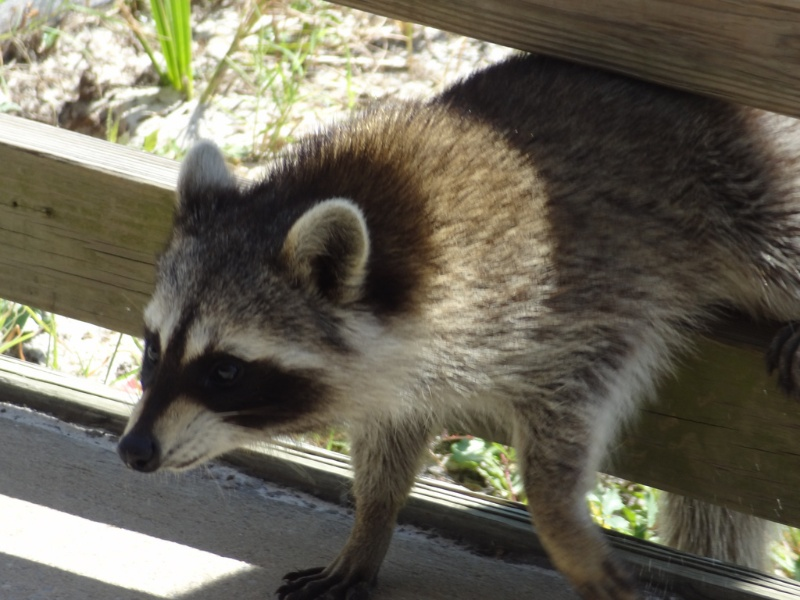raccoon: (115, 50, 793, 594)
